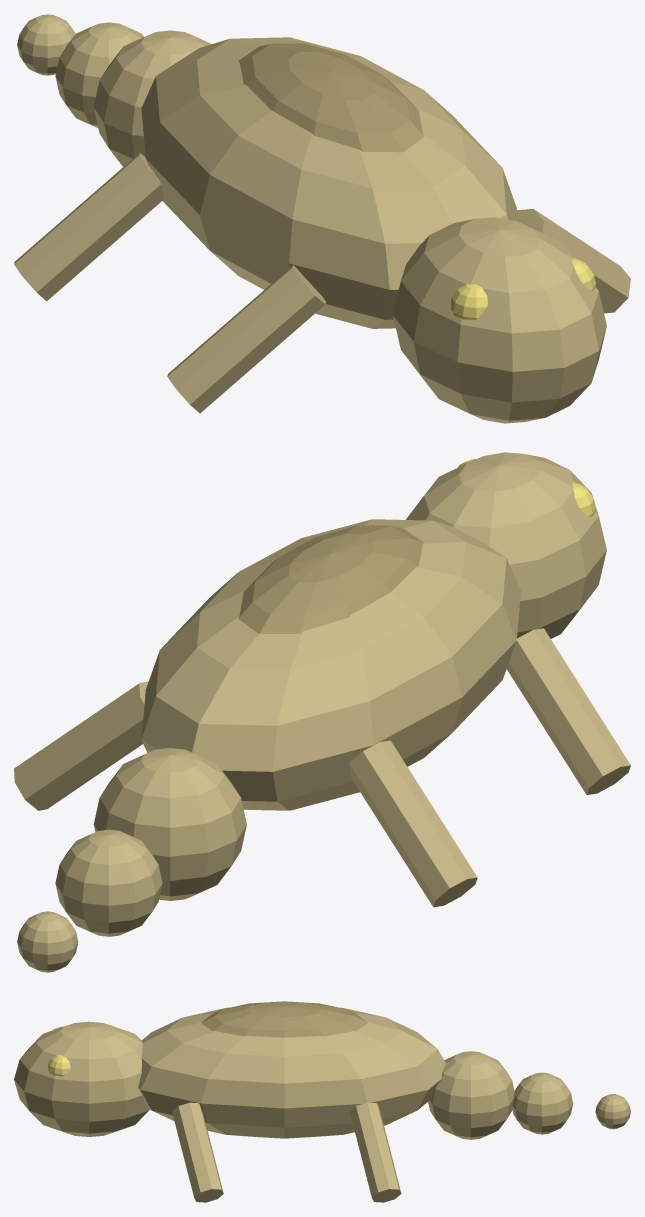
The model's file is creature_lizard_sand.glb.
3 renders of one model, top to bottom at view 1: azimuth 30°, elevation 25°; view 2: azimuth 150°, elevation 25°; view 3: azimuth 270°, elevation 25°, orthographic. The views are drawn at different scales.
Visible parts, largest first — view 1: creature_lizard_sand; view 2: creature_lizard_sand; view 3: creature_lizard_sand.
Part boxes in pixels (x1,y1,x2,y2): creature_lizard_sand: (14, 14, 630, 423); creature_lizard_sand: (14, 452, 630, 972); creature_lizard_sand: (14, 1001, 630, 1202).
Bounding box in the file's own units: 1.97 × 1 × 4.
